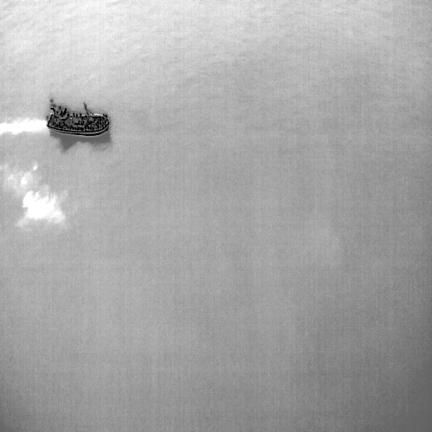flukeprints: (19, 191, 64, 224)
